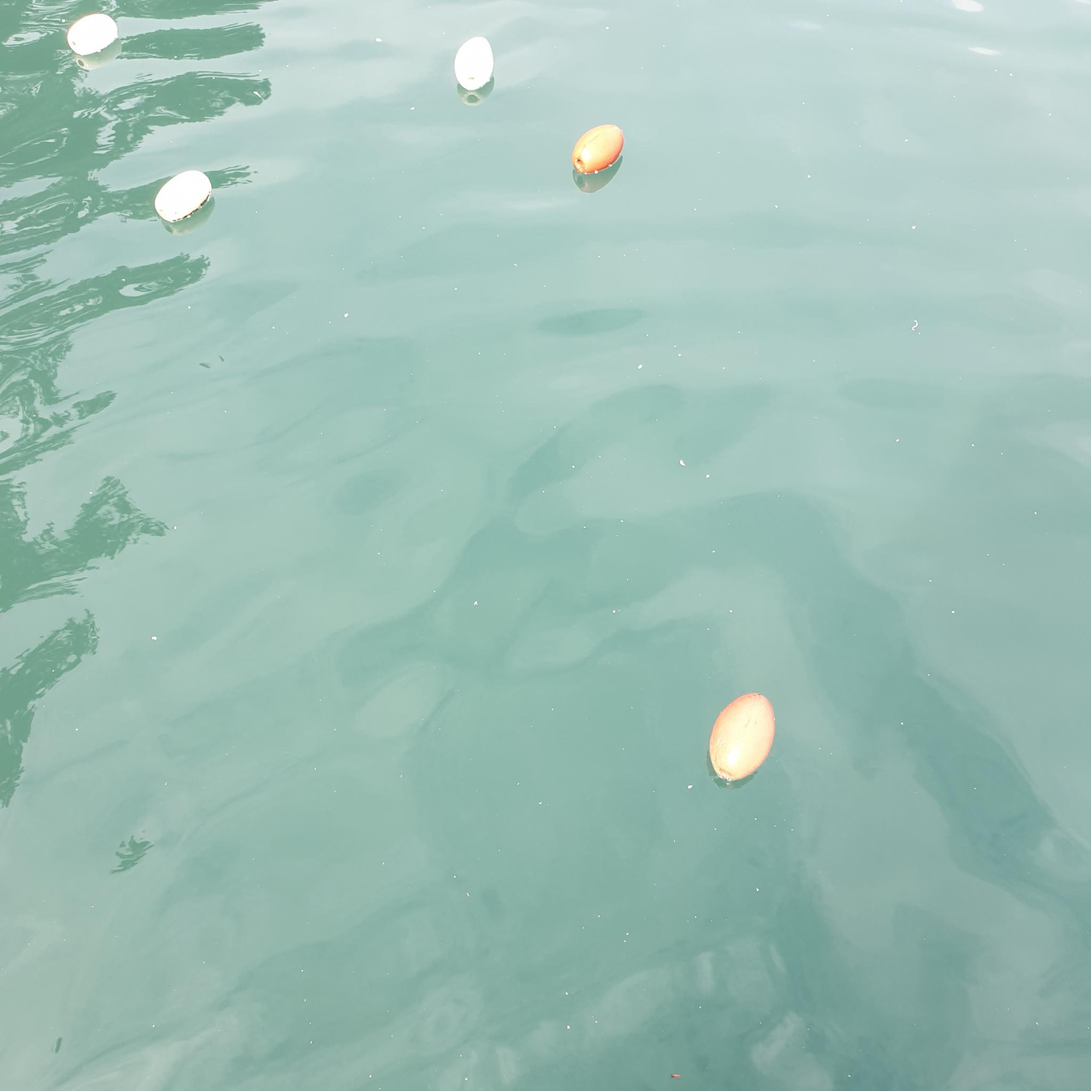sampah_terapung: (708, 692, 775, 781), (155, 170, 212, 223), (573, 125, 625, 174), (67, 14, 119, 56), (455, 37, 494, 91)
